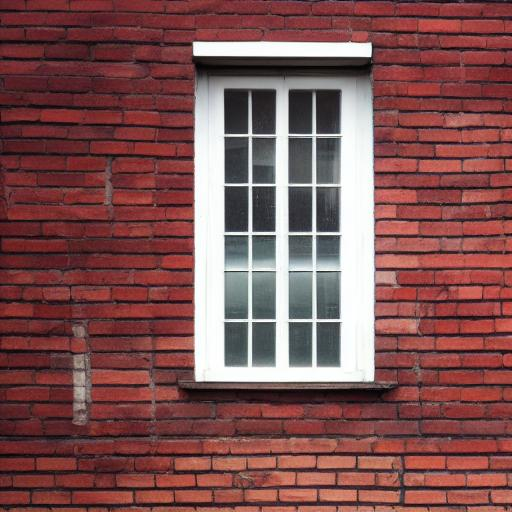Window: (175, 42, 400, 401)
